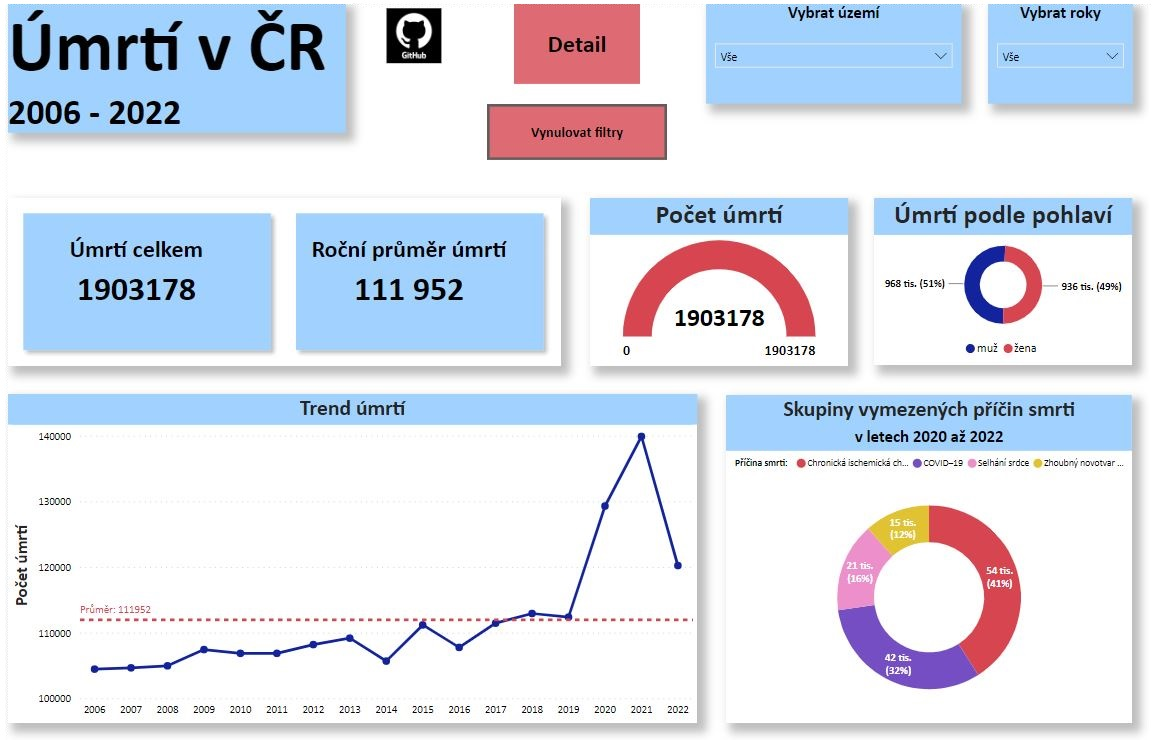

The page's visual inventory and layout, read from the dashboard file:
{"tool":"powerbi","page":{"name":"Přehled","canvas":[1280,820],"ordinal":0},"visuals":[{"type":"gauge","title":"Počet úmrtí","fields":{"Y":["Sum(zemreli.pocet_umrti)"]},"box":[654.9,217.7,287.1,187],"z":0},{"type":"donutChart","title":"Úmrtí podle pohlaví","fields":{"Category":["zemreli.pohlavi"],"Y":["Sum(zemreli.pocet_umrti)"]},"box":[970.1,217.7,287.1,186.1],"z":1000},{"type":"lineChart","title":"Trend úmrtí","fields":{"Category":["zemreli.rok"],"Y":["Sum(zemreli.pocet_umrti)"]},"box":[7.9,435.4,765.5,366.1],"z":2000},{"type":"cardVisual","fields":{"Data":["zemreli.umrti_celkem","zemreli.Roční průměr úmrtí"]},"box":[7.9,217.7,613.7,187],"z":3000},{"type":"slicer","title":"Vybrat roky","fields":{"Values":["zemreli.rok"]},"box":[1096.5,0,160.7,113.3],"z":4000},{"type":"slicer","title":"Vybrat území","fields":{"Values":["zemreli.kraj Hierarchie.kraj","zemreli.kraj Hierarchie.okres"]},"box":[783.1,0,283.6,113.3],"z":5000},{"type":"actionButton","box":[570,0,140,91],"z":6000},{"type":"actionButton","title":"Vynulovat filtry","box":[539.9,113.3,200.2,62.3],"z":7000},{"type":"donutChart","title":"Skupiny vymezených příčin smrti","fields":{"Category":["zemreli.nazev_nemoci"],"Y":["Sum(zemreli.pocet_umrti)"]},"box":[805.9,436.3,451.2,365.2],"z":8000},{"type":"actionButton","title":"Úmrtí v ČR","box":[7.9,0,374.9,144.9],"z":9000},{"type":"image","box":[423.2,0,71.1,73.7],"z":10000}]}

Visuals, with their boxes in screenshot pixels (x1, y1, x2, y2), scaled from the page's 1280x820 canvas onto the 1155x740 screenshot:
"Počet úmrtí" gauge: locate(591, 196, 850, 365)
"Úmrtí podle pohlaví" donutChart: locate(875, 196, 1134, 364)
"Trend úmrtí" lineChart: locate(7, 393, 698, 723)
cardVisual - zemreli.umrti_celkem x zemreli.Roční průměr úmrtí: locate(7, 196, 561, 365)
"Vybrat roky" slicer: locate(989, 0, 1134, 102)
"Vybrat území" slicer: locate(707, 0, 963, 102)
actionButton: locate(514, 0, 641, 82)
"Vynulovat filtry" actionButton: locate(487, 102, 668, 158)
"Skupiny vymezených příčin smrti" donutChart: locate(727, 394, 1134, 723)
"Úmrtí v ČR" actionButton: locate(7, 0, 345, 131)
image: locate(382, 0, 446, 67)
